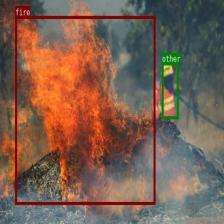fire: (15, 16, 155, 204)
